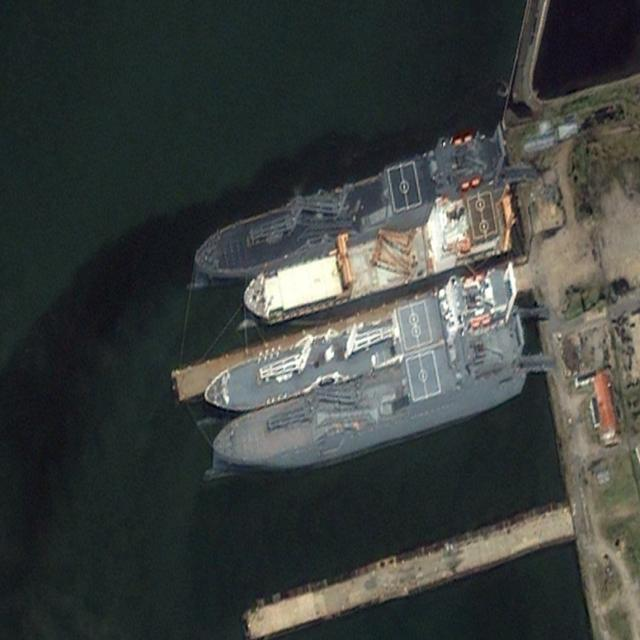Cargo: (186, 116, 515, 294), (209, 322, 533, 498), (199, 262, 523, 428), (236, 176, 520, 339)
